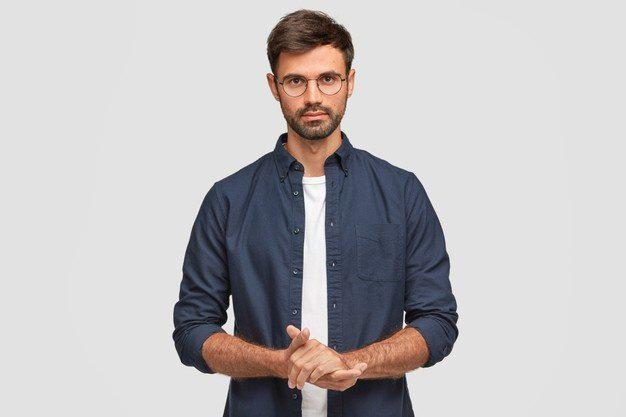Sober: (273, 50, 348, 133)
